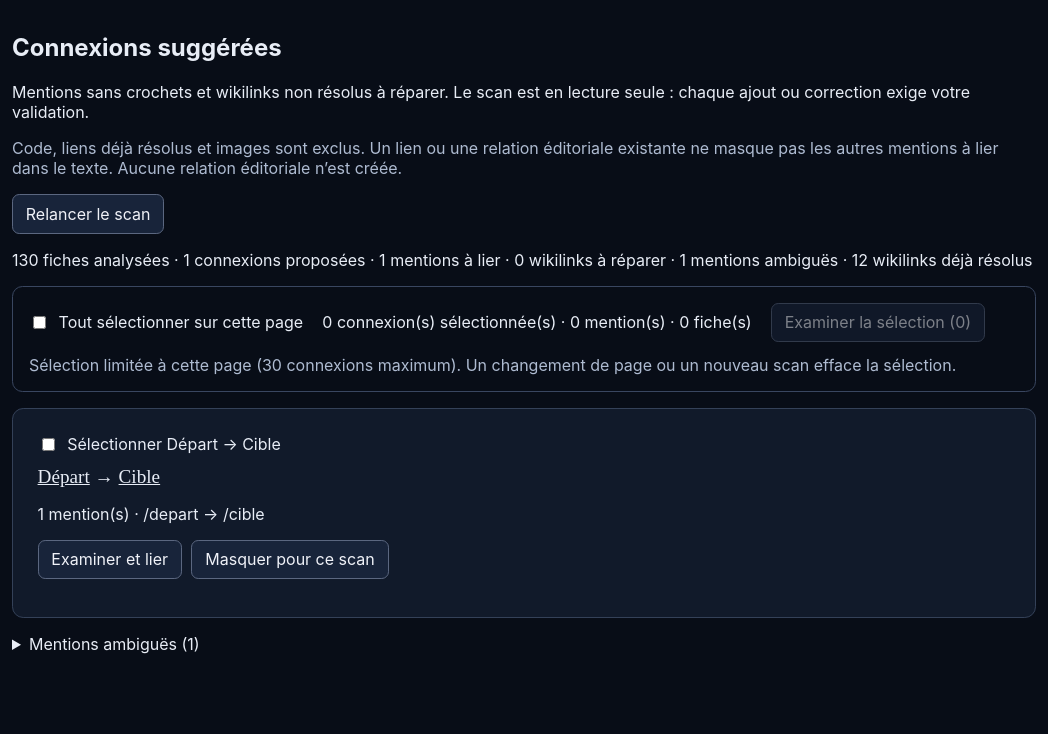
Scenario: scan des connexions › submits the approved fingerprint once despite double clicks, refreshes the scan and reports the revision
Expected: the text "130 fiches analysées" is shown, [12,250,1036,270]
Click the button "Examiner et lier". click: (110,559)
box: [38,540,182,579]
(page scrolled)
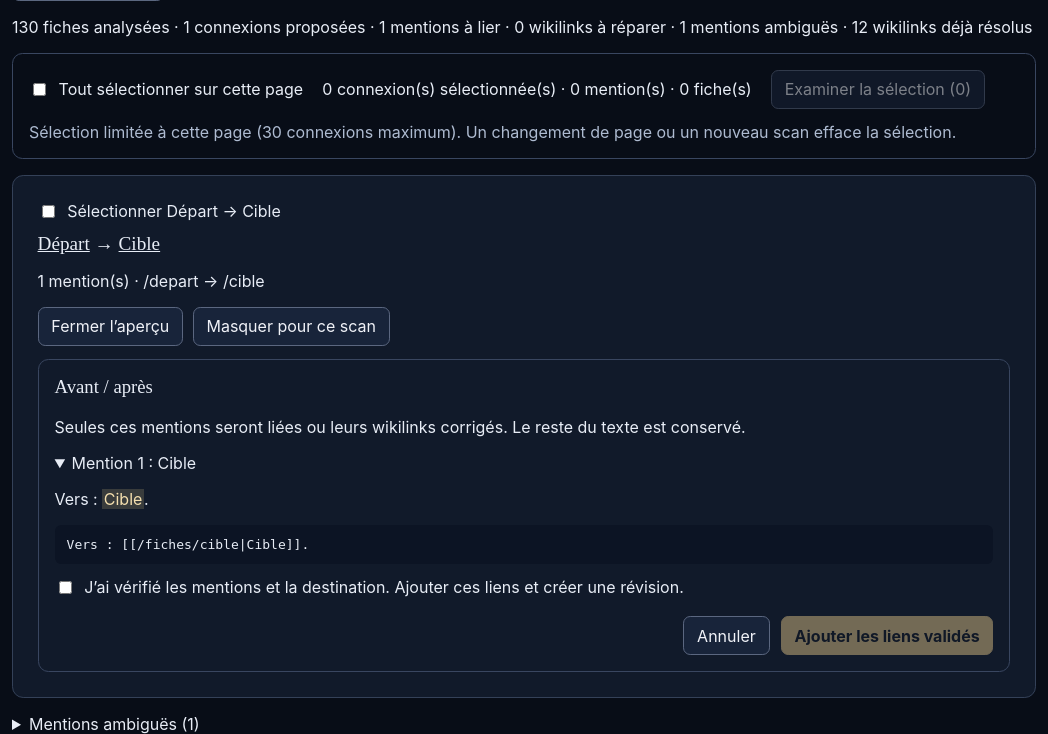
Click the checkbox labelled "J’ai vérifié". click: (65,587)
box: [59,581,72,594]
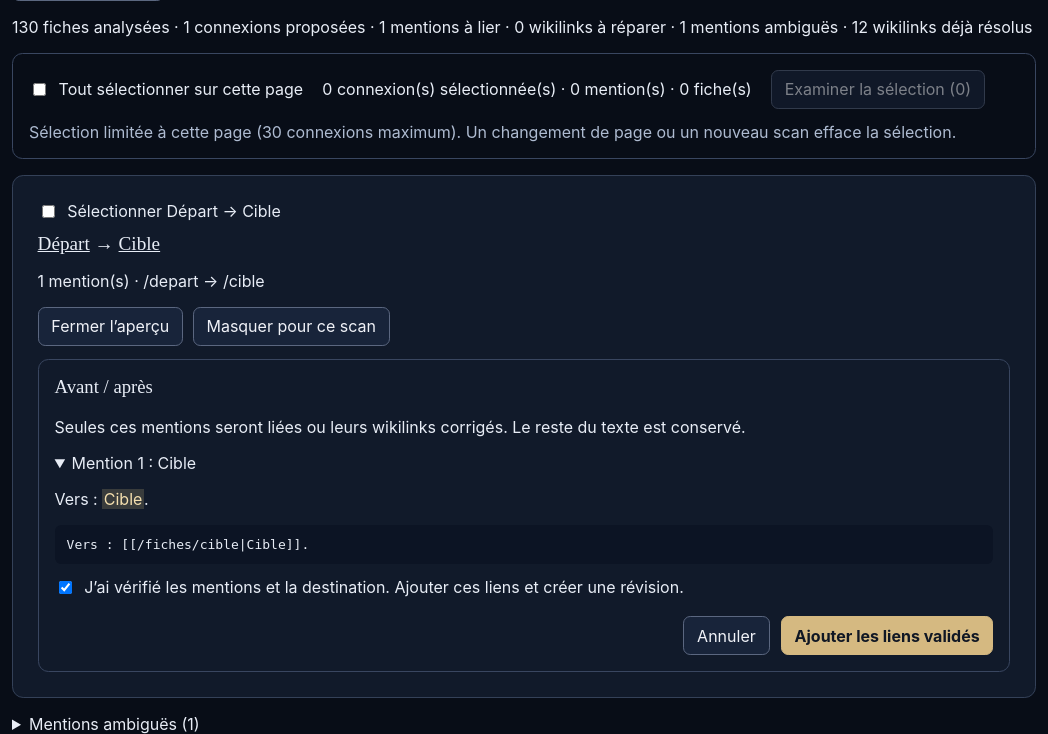
Click the button "Ajouter les liens validés". click: (887,636)
box: [781,616,993,655]
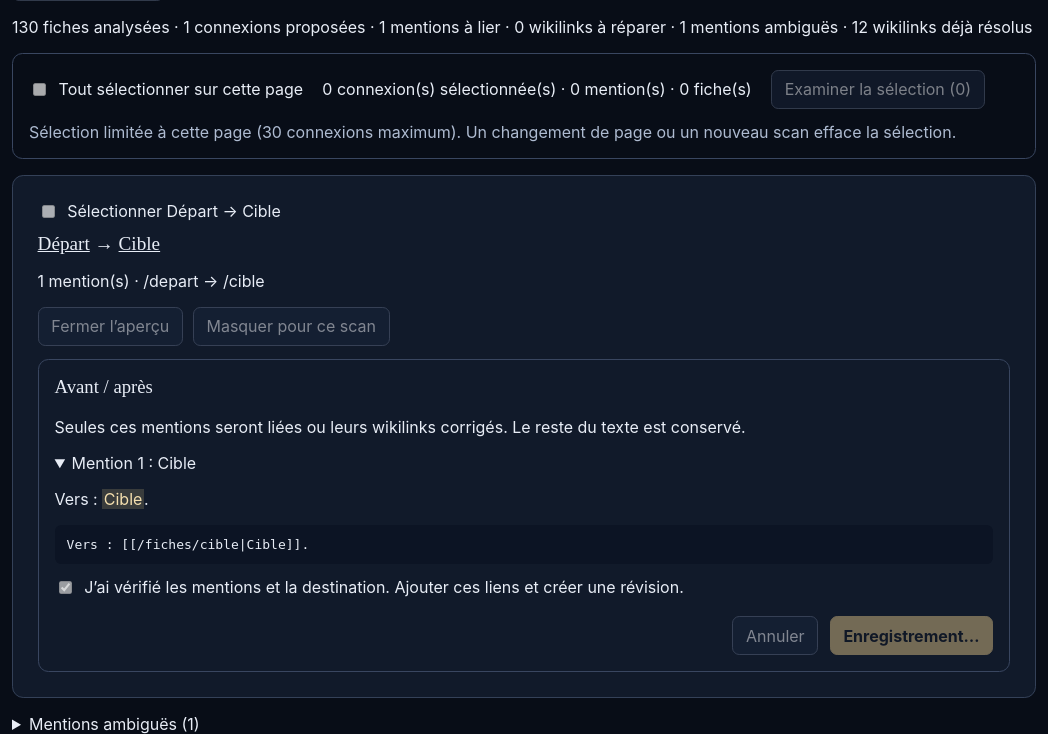
Click the button named "Ajouter les liens validés". click: (912,636)
box: [830,616,993,655]
(page scrolled)
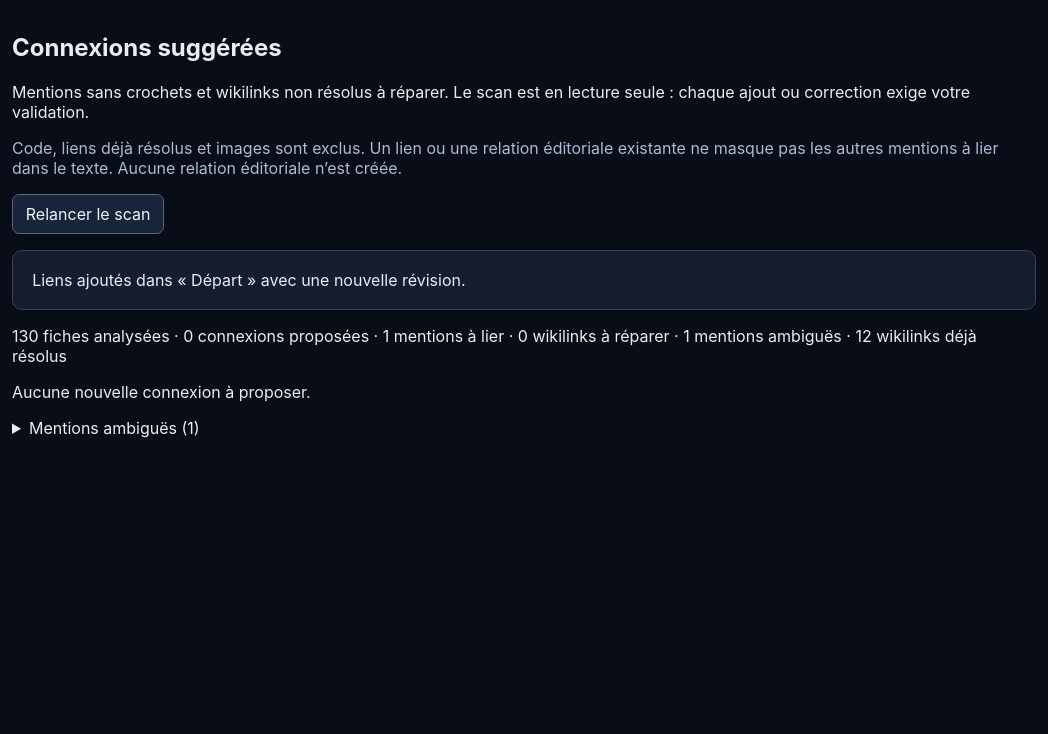
Result: the text "Liens ajoutés dans « Départ » avec une nouvelle révision." is shown at [12,250,1036,310]
